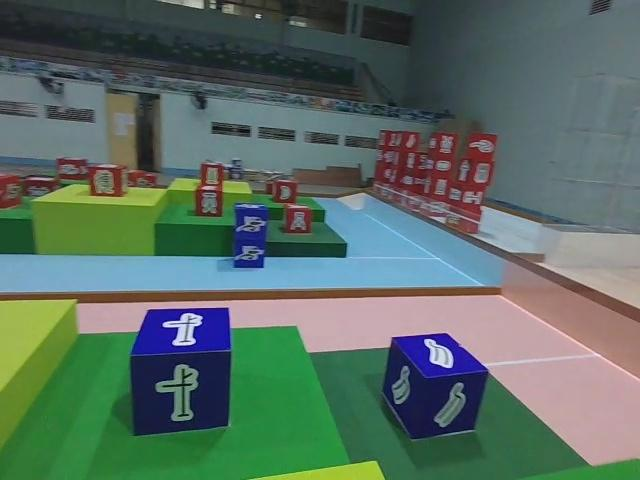R1 Blue: (231, 202, 267, 267)
R2 Real Blue: (132, 307, 236, 438), (382, 333, 488, 442)
